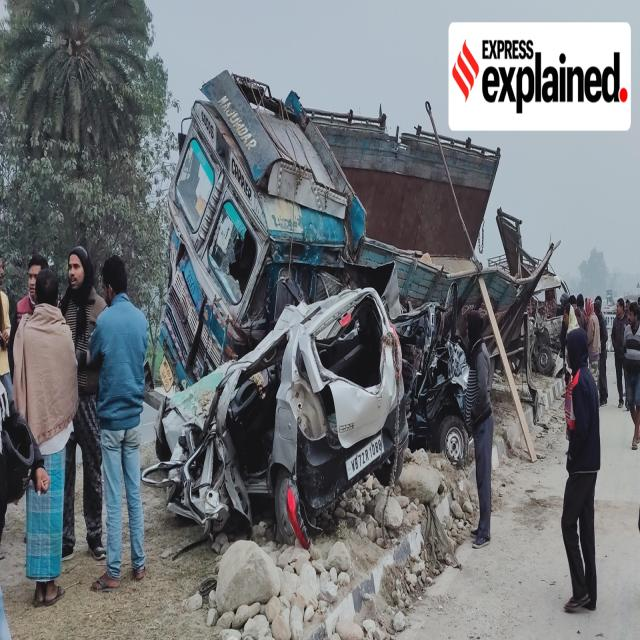accident: (160, 71, 542, 383), (142, 287, 408, 541), (394, 284, 469, 467)
